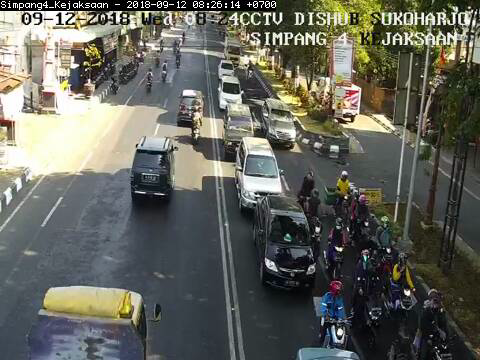motor: (357, 249, 385, 349), (417, 290, 456, 360), (316, 280, 353, 352), (388, 252, 418, 328), (369, 214, 396, 280), (347, 192, 373, 252), (325, 216, 346, 282), (305, 189, 326, 255), (331, 170, 358, 220)
